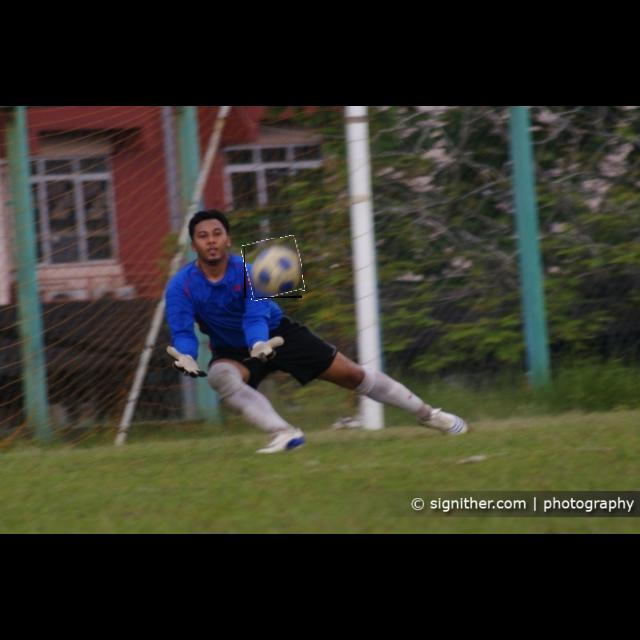Football: (244, 238, 302, 298)
